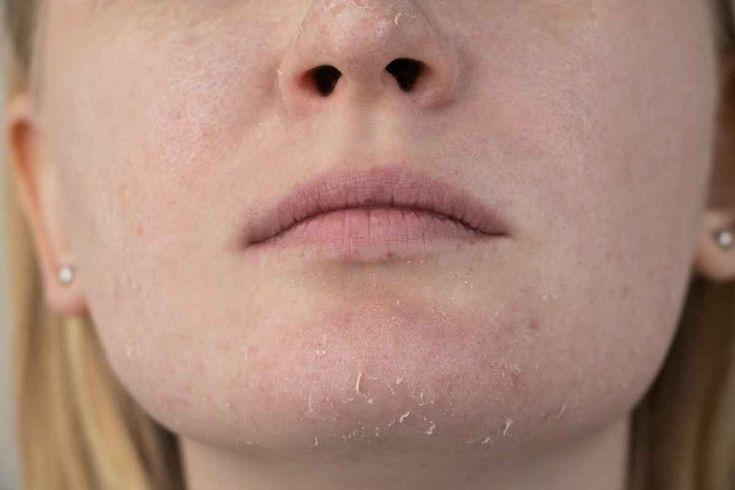Dry-Skin: (69, 38, 200, 204), (333, 290, 476, 432), (285, 6, 441, 124), (164, 279, 258, 420), (568, 56, 649, 195), (519, 279, 603, 413), (511, 28, 560, 224), (631, 270, 678, 354)
